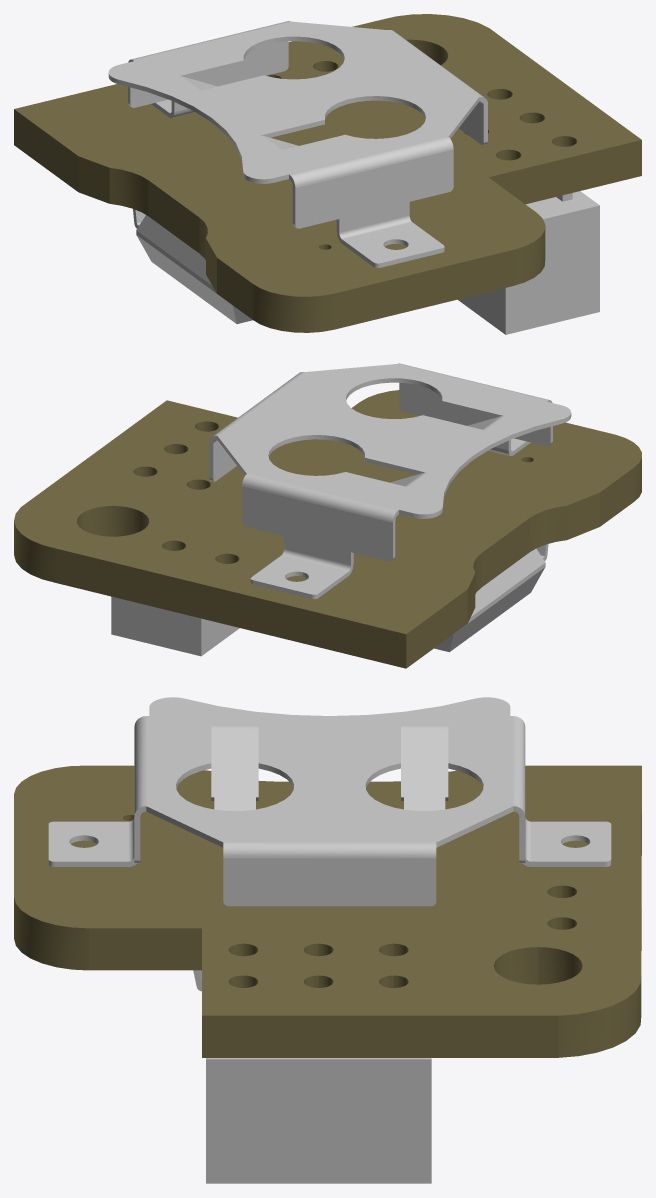
File: ada-4282.glb
3 renders of one model, top to bottom at view 1: azimuth 30°, elevation 25°; view 2: azimuth 150°, elevation 25°; view 3: azimuth 270°, elevation 25°, orthographic. The views are drawn at different scales.
Visible parts, largest first — view 1: 0.16666666666666666_0.16666666666666666_0.08333333333333333_, 0.5833333333333334_0.5833333333333334_0.5833333333333334_0.8; view 2: 0.16666666666666666_0.16666666666666666_0.08333333333333333_, 0.5833333333333334_0.5833333333333334_0.5833333333333334_0.8; view 3: 0.16666666666666666_0.16666666666666666_0.08333333333333333_, 0.5833333333333334_0.5833333333333334_0.5833333333333334_0.8.
Boxes of the visible parts, x1=… form: 0.16666666666666666_0.16666666666666666_0.08333333333333333_: x1=14, y1=14, x2=641, y2=332; 0.5833333333333334_0.5833333333333334_0.5833333333333334_0.8: x1=108, y1=21, x2=599, y2=334; 0.16666666666666666_0.16666666666666666_0.08333333333333333_: x1=14, y1=390, x2=641, y2=668; 0.5833333333333334_0.5833333333333334_0.5833333333333334_0.8: x1=111, y1=363, x2=571, y2=656; 0.16666666666666666_0.16666666666666666_0.08333333333333333_: x1=14, y1=765, x2=641, y2=1057; 0.5833333333333334_0.5833333333333334_0.5833333333333334_0.8: x1=48, y1=697, x2=611, y2=1183.
Bounding box in the file's own units: 2 × 1.03 × 2.12.
